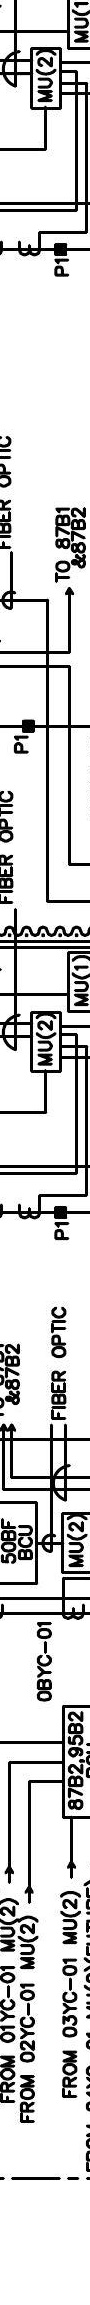MU: (30, 1010, 62, 1073), (30, 47, 62, 110)
